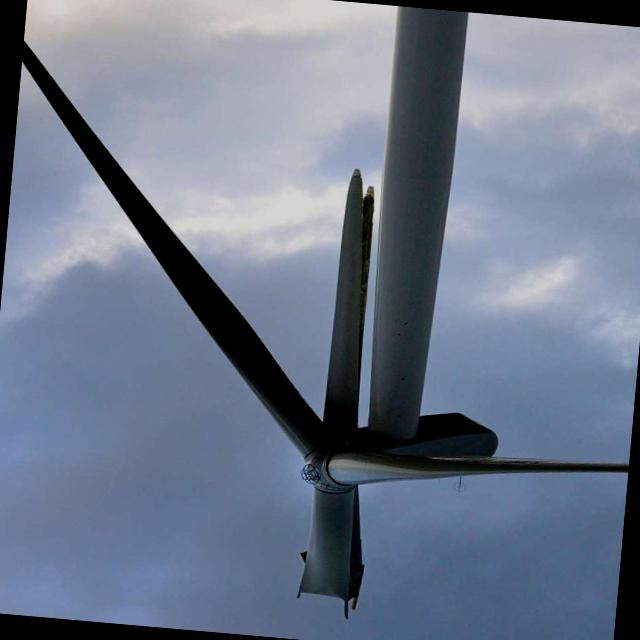crack: (269, 150, 406, 636)
